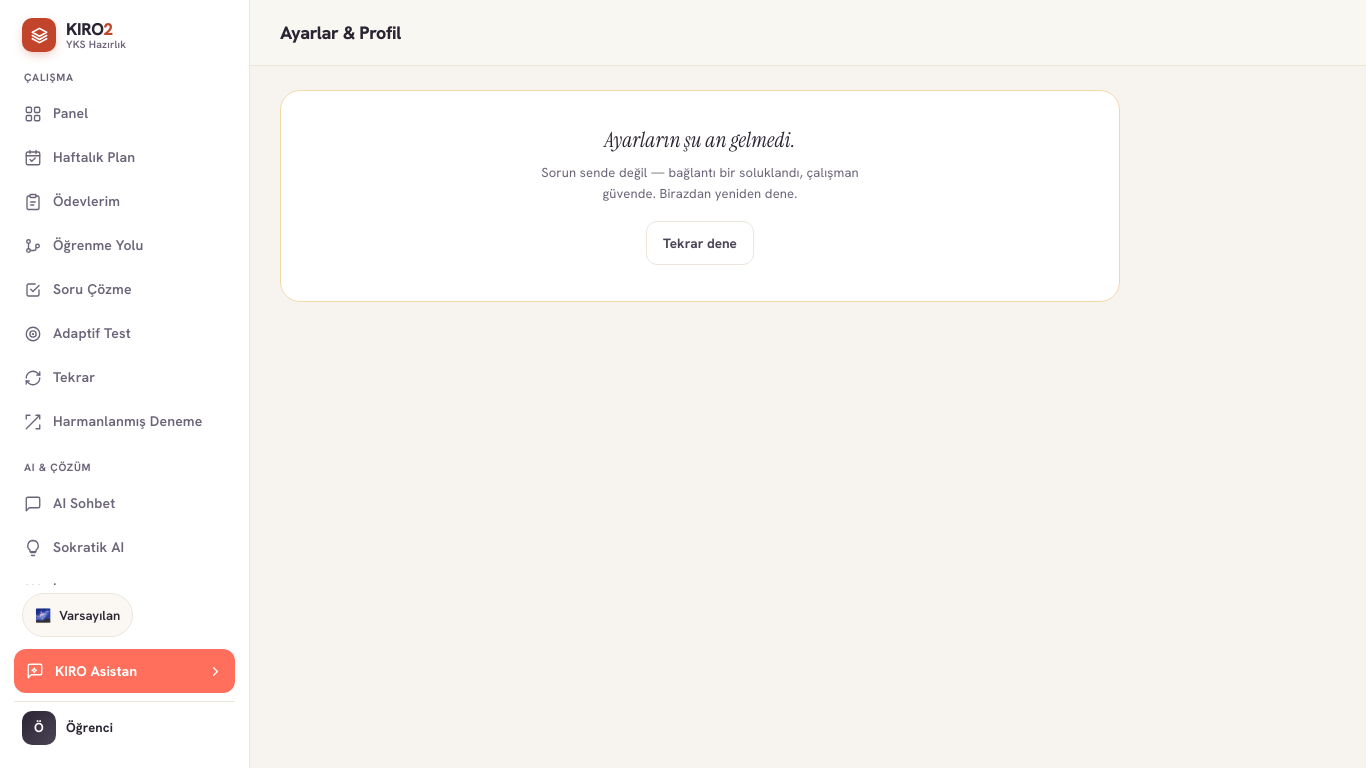
Test: AyarlarPage · durumlar & sınırlar › getMe reddi → sakin ErrorState; "Tekrar dene" sonrası ayarlar döner
This screenshot has width=1366, height=768.
expect the text "Ayarların şu an gelmedi." is shown: met, box [604,127,796,153]
# onRetry → useEffect yeniden koşar, gerçek getMe çözülür
Click the button "Tekrar dene". click: (700, 243)
box: [646,221,754,265]
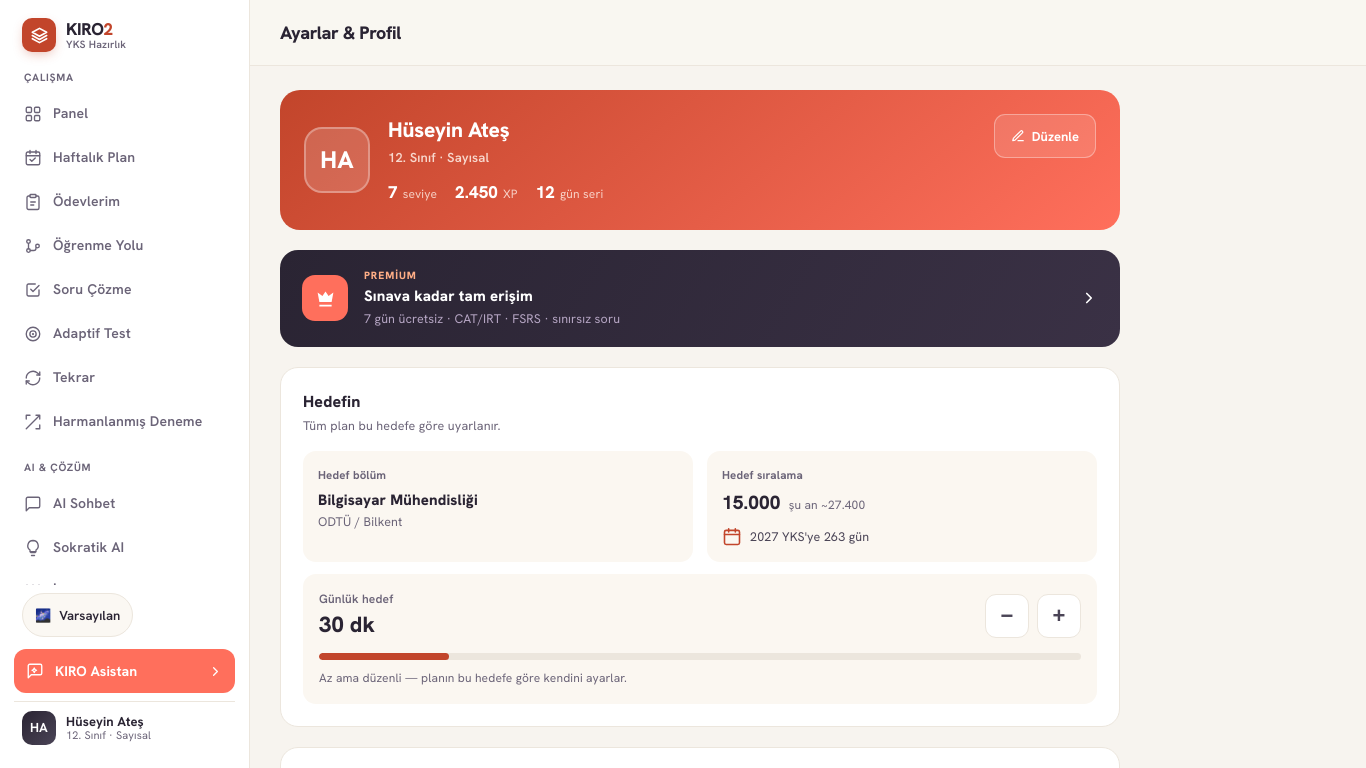
expect the text "Hüseyin Ateş" below "İnteraktif Çözüm" is shown: met, box [66,713,144,730]
expect the text "Ayarların şu an gelmedi." is gone: met
